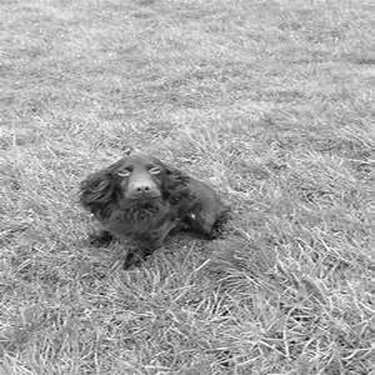dog: (64, 148, 230, 269)
